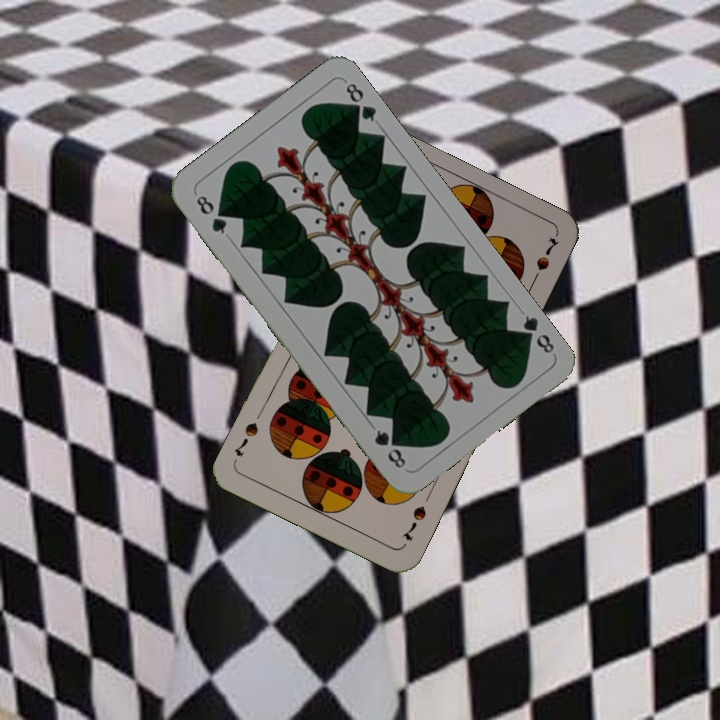G8: (514, 311, 557, 357), (192, 191, 230, 237)
S7: (398, 501, 429, 544)
